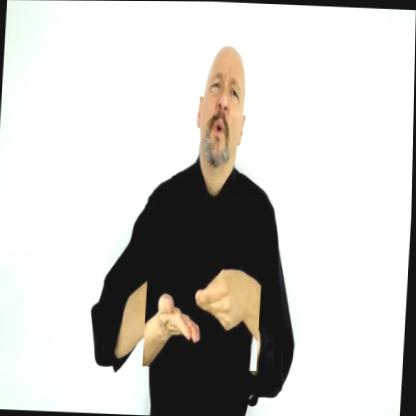Expensive: (145, 241, 265, 371)
